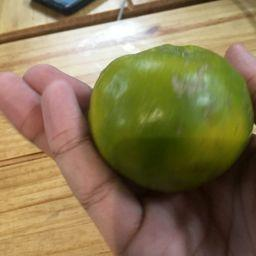Unripe: (91, 47, 254, 191)
